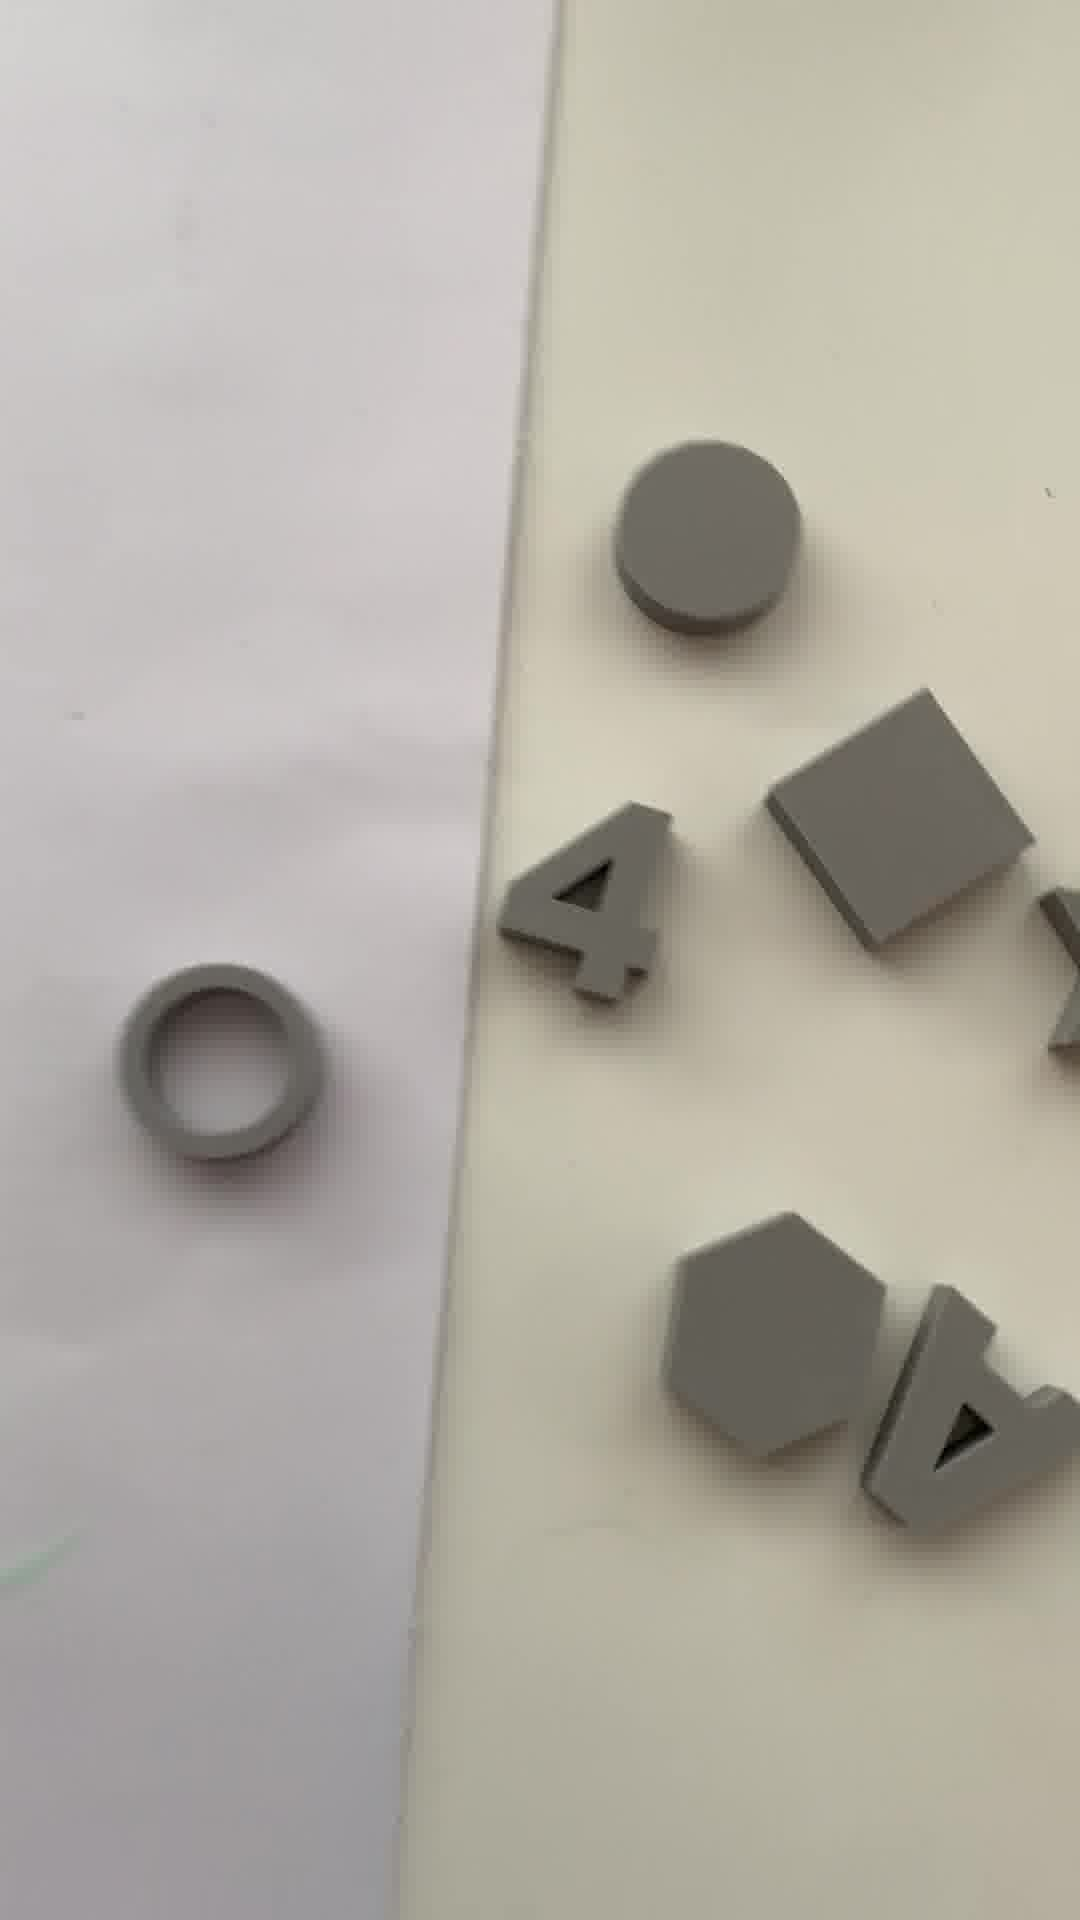Gray A-letter: (855, 1275, 1080, 1553)
Gray circle: (607, 434, 811, 640)
Gray four: (498, 796, 696, 1021)
Gray hexagon: (655, 1208, 890, 1469)
Gray ring: (115, 965, 319, 1170)
Gray square: (785, 680, 1027, 961)
